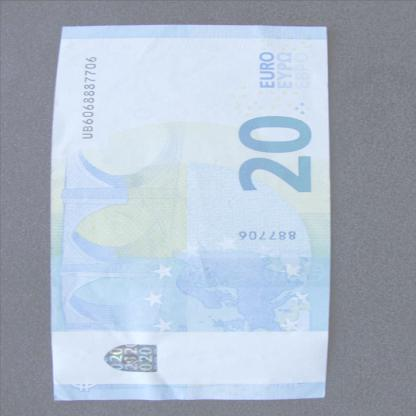euro_banknote: (5, 74, 379, 354)
